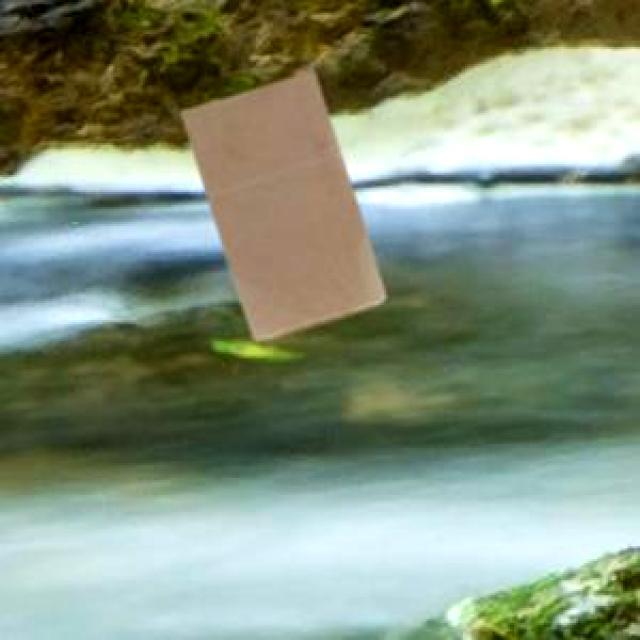Paper_Bag: (178, 69, 383, 336)
